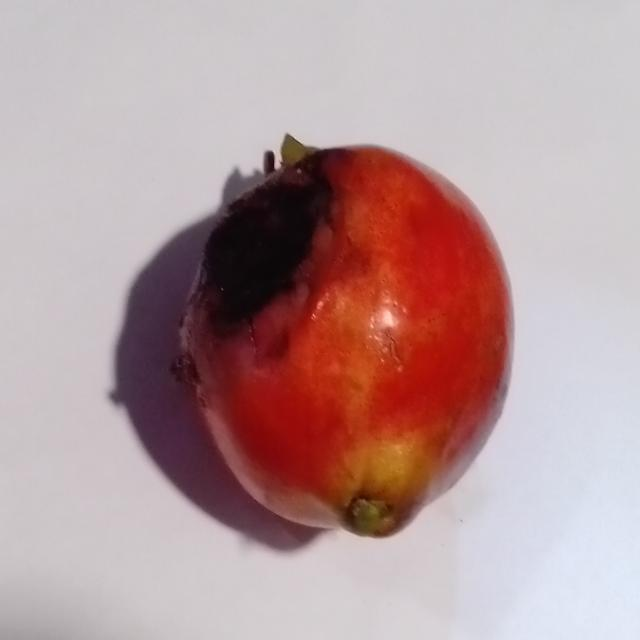Rotten: (165, 131, 517, 544)
